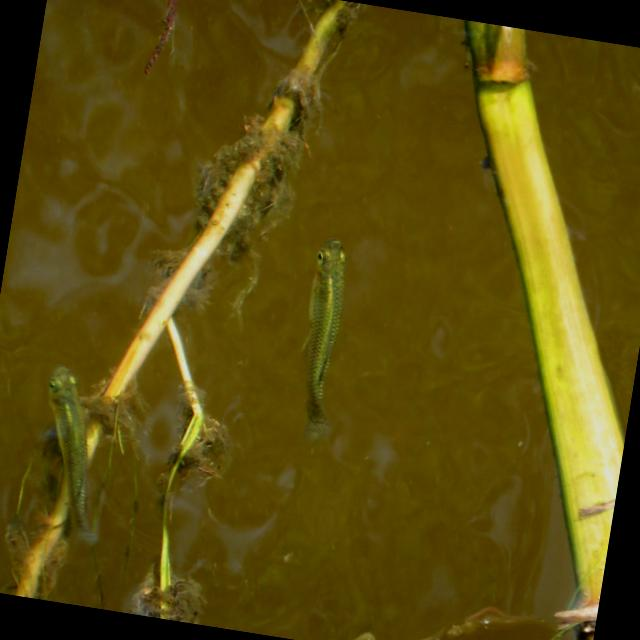Sivrisinek Baligi: (12, 348, 138, 546), (284, 233, 364, 445)
